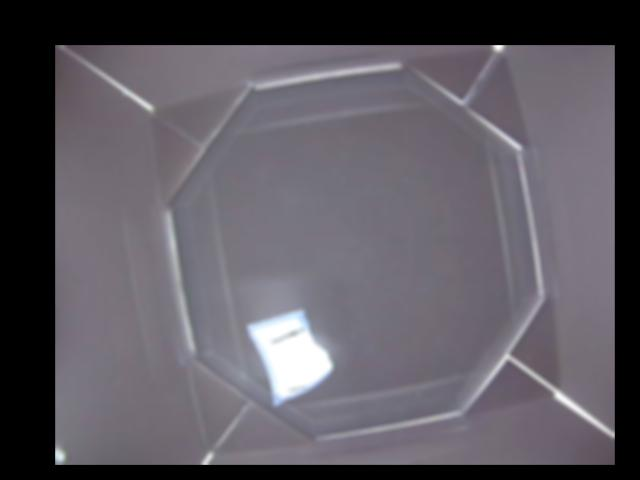China: (244, 307, 333, 401)
